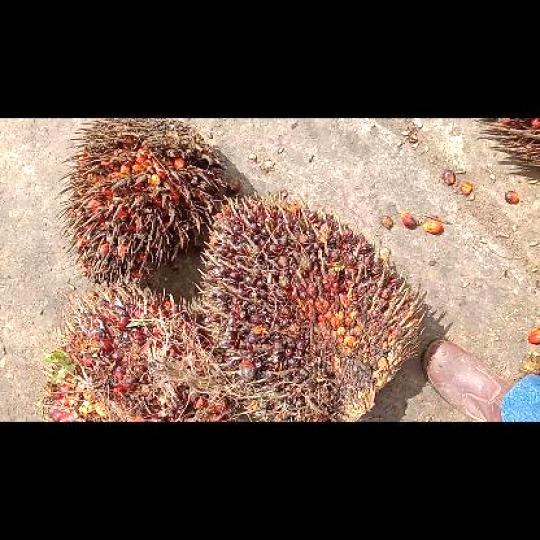kurang masak: (200, 191, 428, 421)
masak: (42, 288, 238, 421)
terlalu masak: (62, 118, 239, 287)
